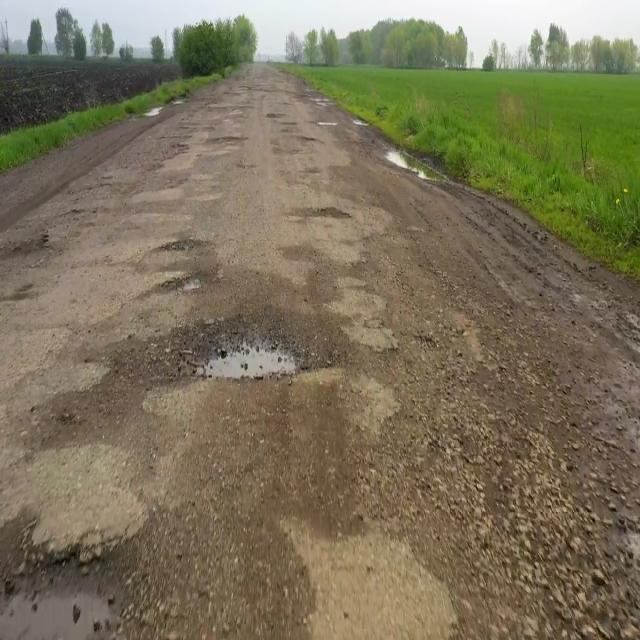road-pothole: (4, 558, 110, 640), (189, 340, 313, 383), (389, 145, 447, 184), (167, 271, 209, 293), (302, 207, 351, 221), (133, 100, 162, 116)
